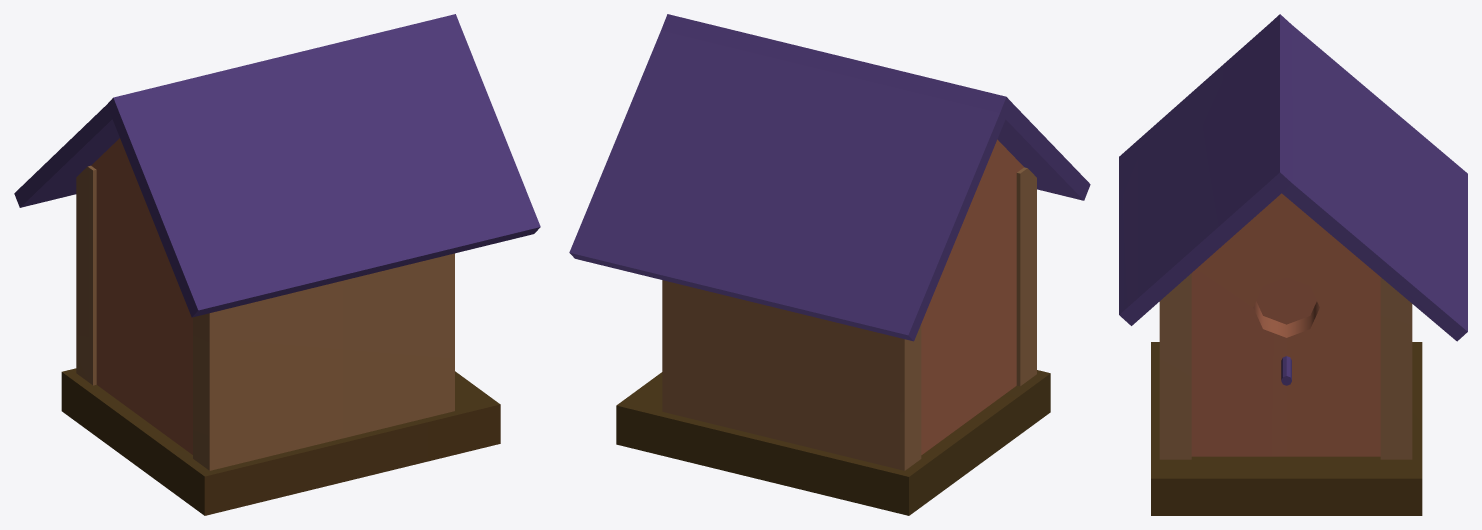
The model's file is CasitaAzul.FBX.
3 renders of one model, left to right at view 1: azimuth 30°, elevation 25°; view 2: azimuth 150°, elevation 25°; view 3: azimuth 270°, elevation 25°, orthographic. The views are drawn at different scales.
Visible parts, largest first — view 1: CasitaAzul; view 2: CasitaAzul; view 3: CasitaAzul.
Part boxes in pixels (x1,y1,x2,y2): CasitaAzul: (14,14,540,515); CasitaAzul: (569,14,1090,515); CasitaAzul: (1119,14,1467,515).
Size of the model in its own units: 48.93 by 51.1 by 45.57.
